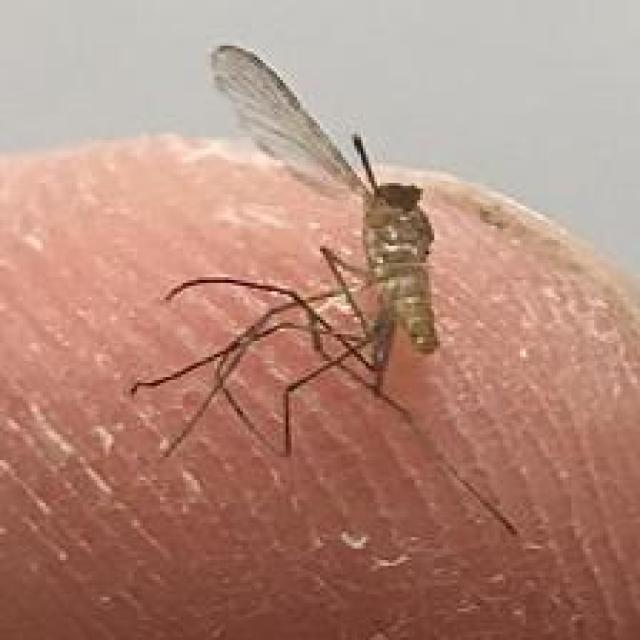Culex: (128, 41, 443, 462)
